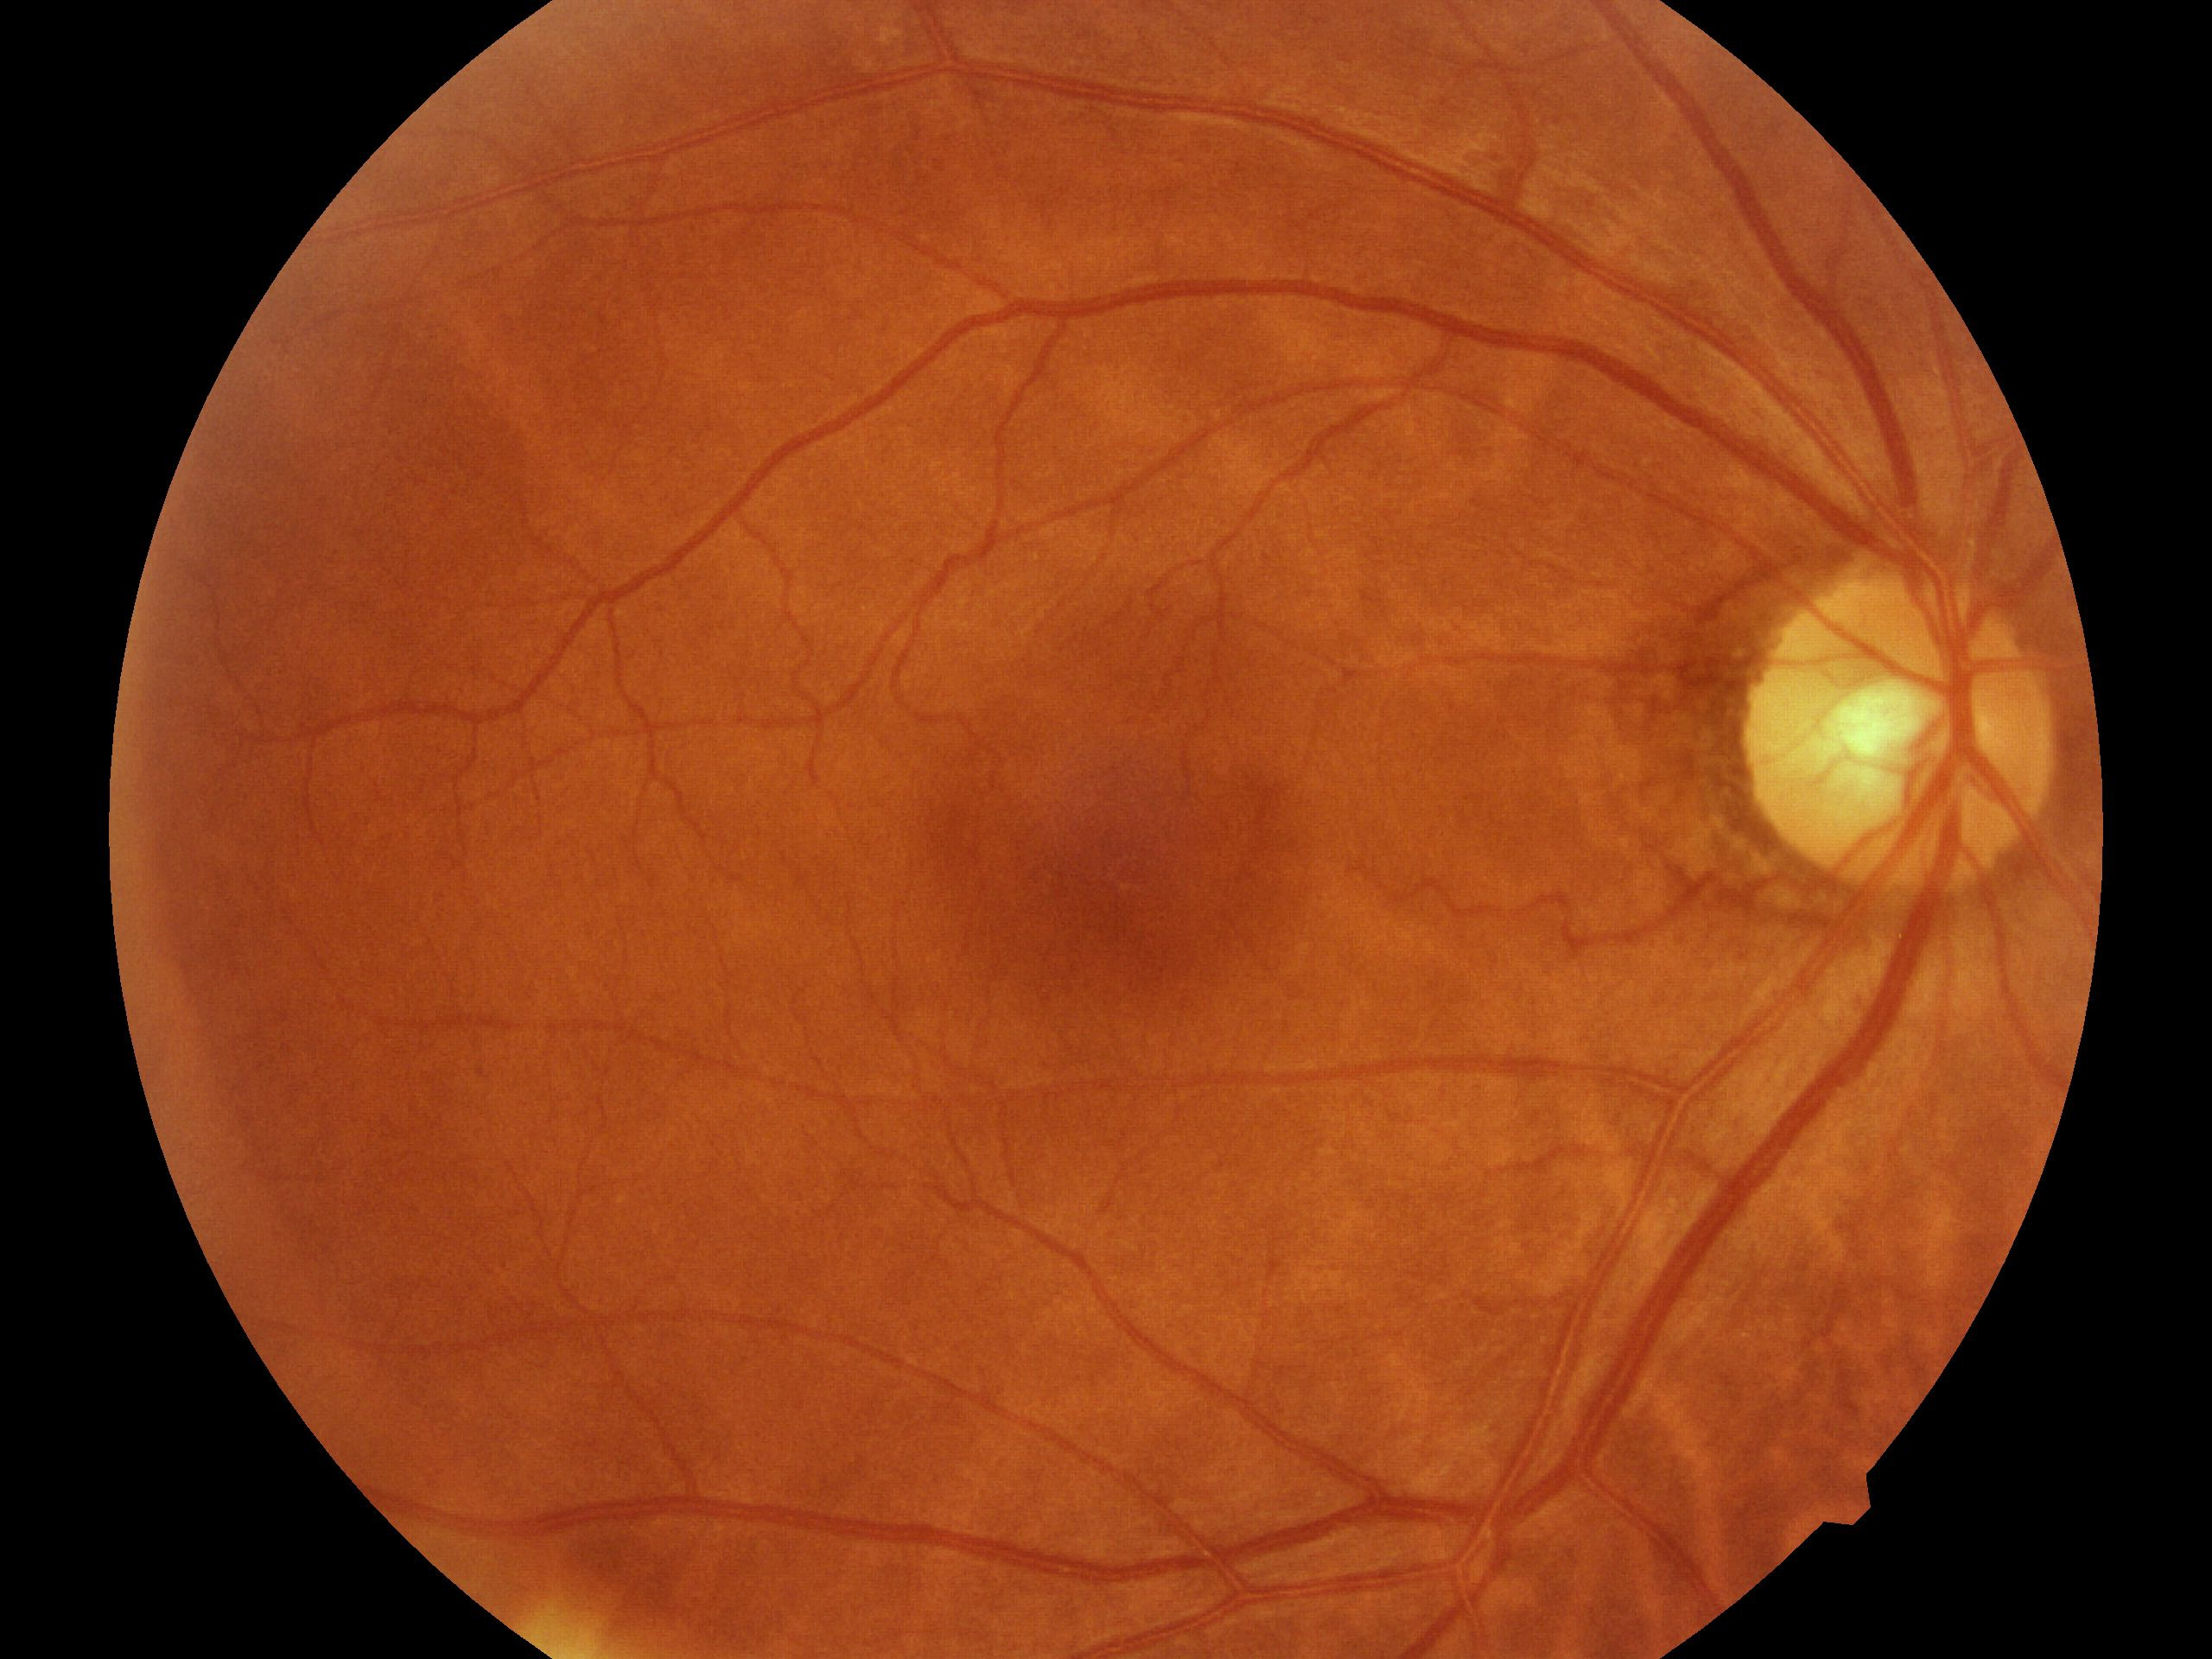Hemorrhages: (949, 688, 1312, 1011)
Optic-Disc: (1726, 498, 2074, 936)
Venules: (1280, 103, 1829, 436), (1442, 1060, 1804, 1537)
